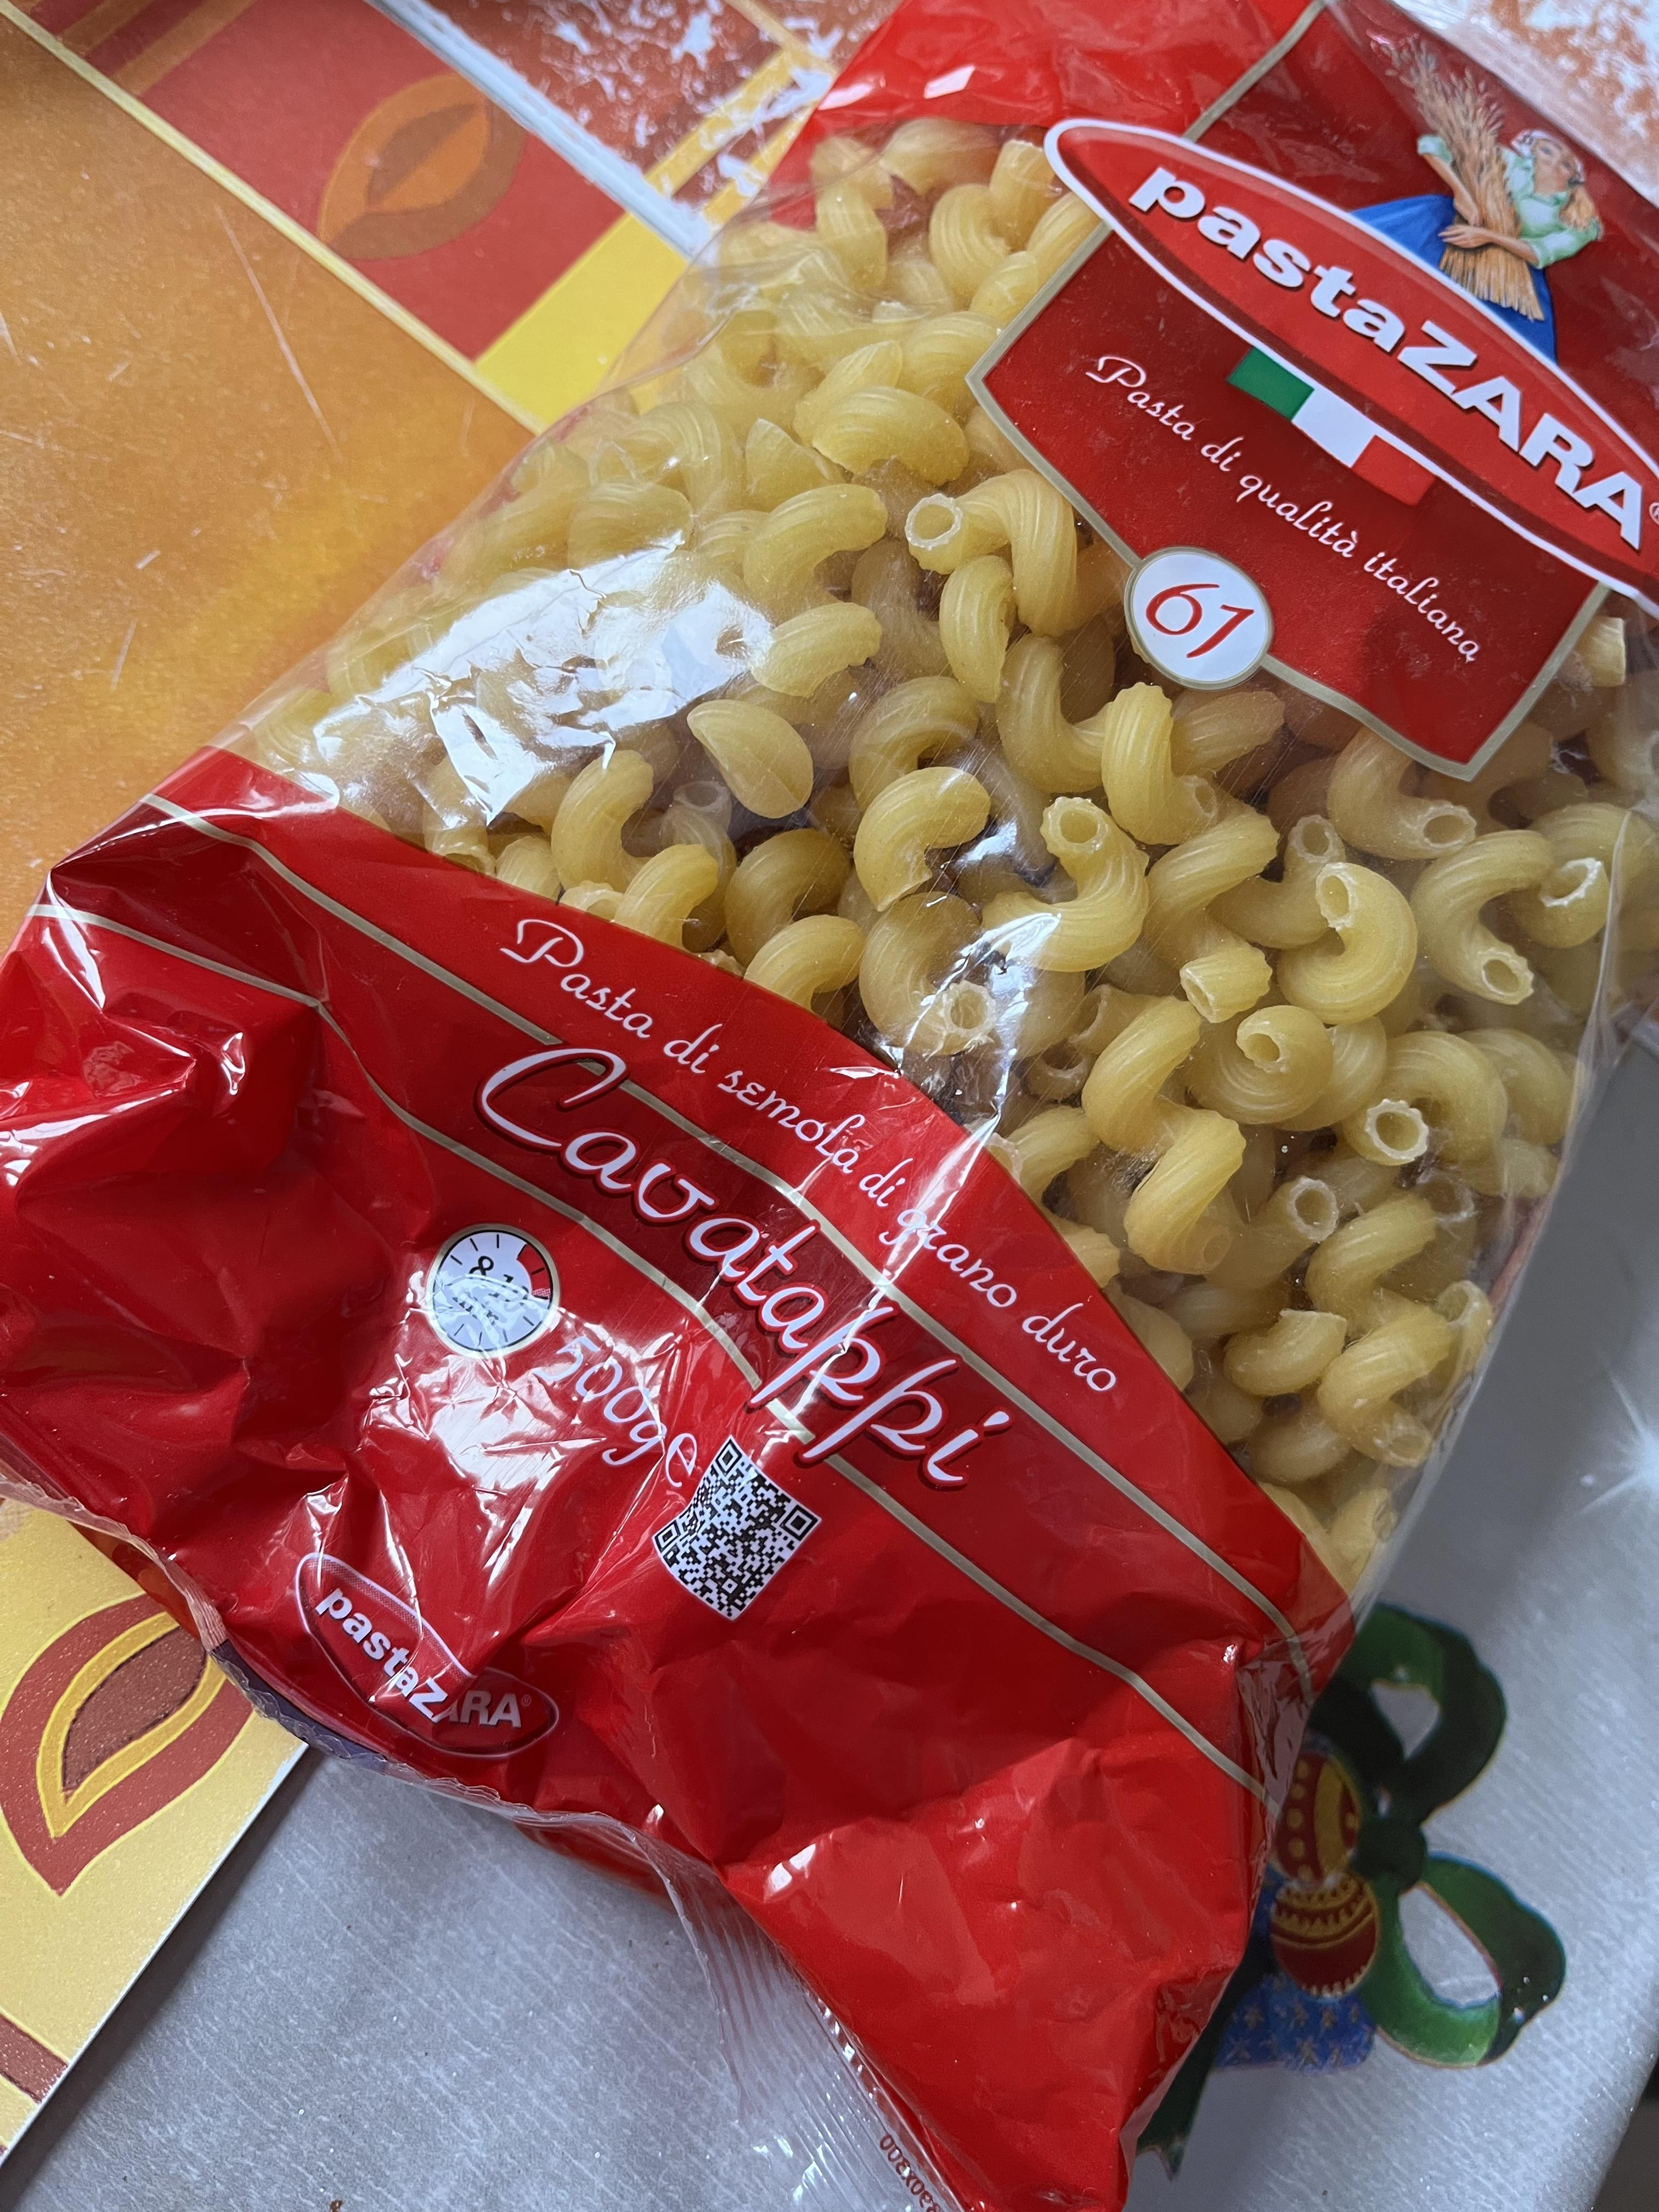qrcode: (653, 1439, 819, 1618)
